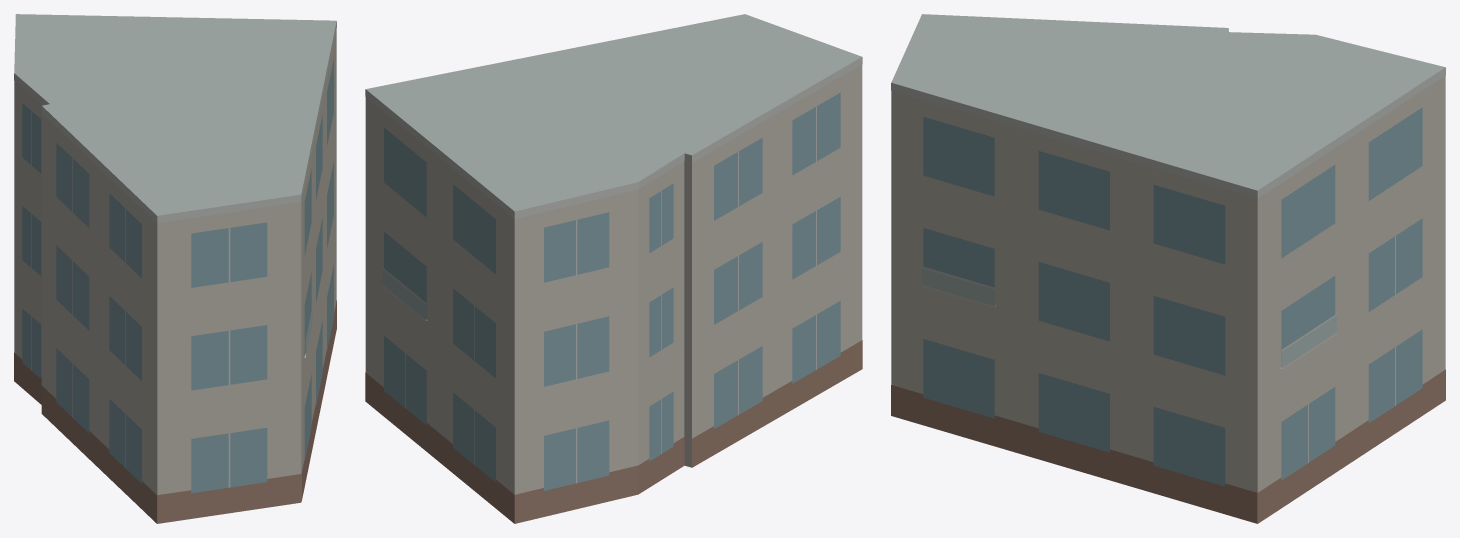
File: survey-upis-32637422.glb
The picture shows the model from 3 angles, left to right: view 1: azimuth 30°, elevation 25°; view 2: azimuth 150°, elevation 25°; view 3: azimuth 270°, elevation 25°; orthographic projection. The views are drawn at different scales.
Visible parts, largest first — view 1: survey-upis-32637422.tmp; view 2: survey-upis-32637422.tmp; view 3: survey-upis-32637422.tmp.
Part boxes in pixels (<box>): survey-upis-32637422.tmp: <box>14,14,336,523</box>; survey-upis-32637422.tmp: <box>365,14,862,523</box>; survey-upis-32637422.tmp: <box>891,14,1445,523</box>.
Size of the model in its own units: 11.61 by 10.2 by 15.4.
